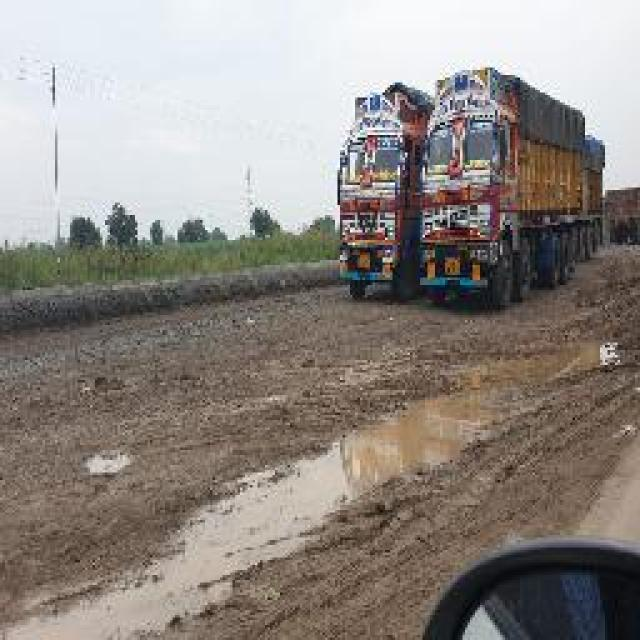stagnation: (29, 350, 551, 634)
